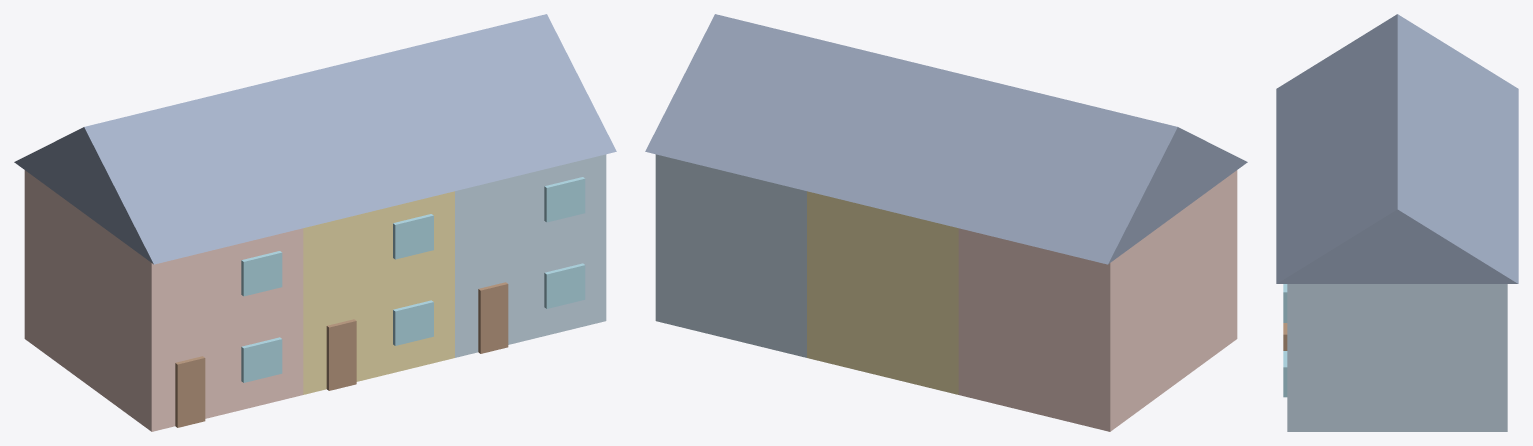
File: terraced_house.glb
3 views of the same model, side by side, from view 1: azimuth 30°, elevation 25°; view 2: azimuth 150°, elevation 25°; view 3: azimuth 270°, elevation 25° (orthographic). The views are drawn at different scales.
Parts seen in each view (by area): view 1: terraced_house_roof_slate, terraced_house_wall_pink, terraced_house_wall_blue, terraced_house_wall_yellow, terraced_house_window, terraced_house_door; view 2: terraced_house_roof_slate, terraced_house_wall_pink, terraced_house_wall_yellow, terraced_house_wall_blue; view 3: terraced_house_roof_slate, terraced_house_wall_blue, terraced_house_window.
Part boxes in pixels (box(x1,y1,x2,y2)): terraced_house_roof_slate: box(14, 14, 616, 264); terraced_house_wall_pink: box(24, 170, 303, 431); terraced_house_wall_blue: box(455, 154, 606, 357); terraced_house_wall_yellow: box(303, 191, 454, 394); terraced_house_window: box(241, 177, 585, 382); terraced_house_door: box(175, 282, 508, 427); terraced_house_roof_slate: box(645, 14, 1247, 264); terraced_house_wall_pink: box(958, 170, 1237, 431); terraced_house_wall_yellow: box(807, 191, 958, 394); terraced_house_wall_blue: box(655, 154, 806, 357); terraced_house_roof_slate: box(1276, 14, 1518, 283); terraced_house_wall_blue: box(1287, 284, 1507, 431); terraced_house_window: box(1283, 284, 1287, 397).
Size of the model in its own units: 16.8 by 9 by 8.8.
